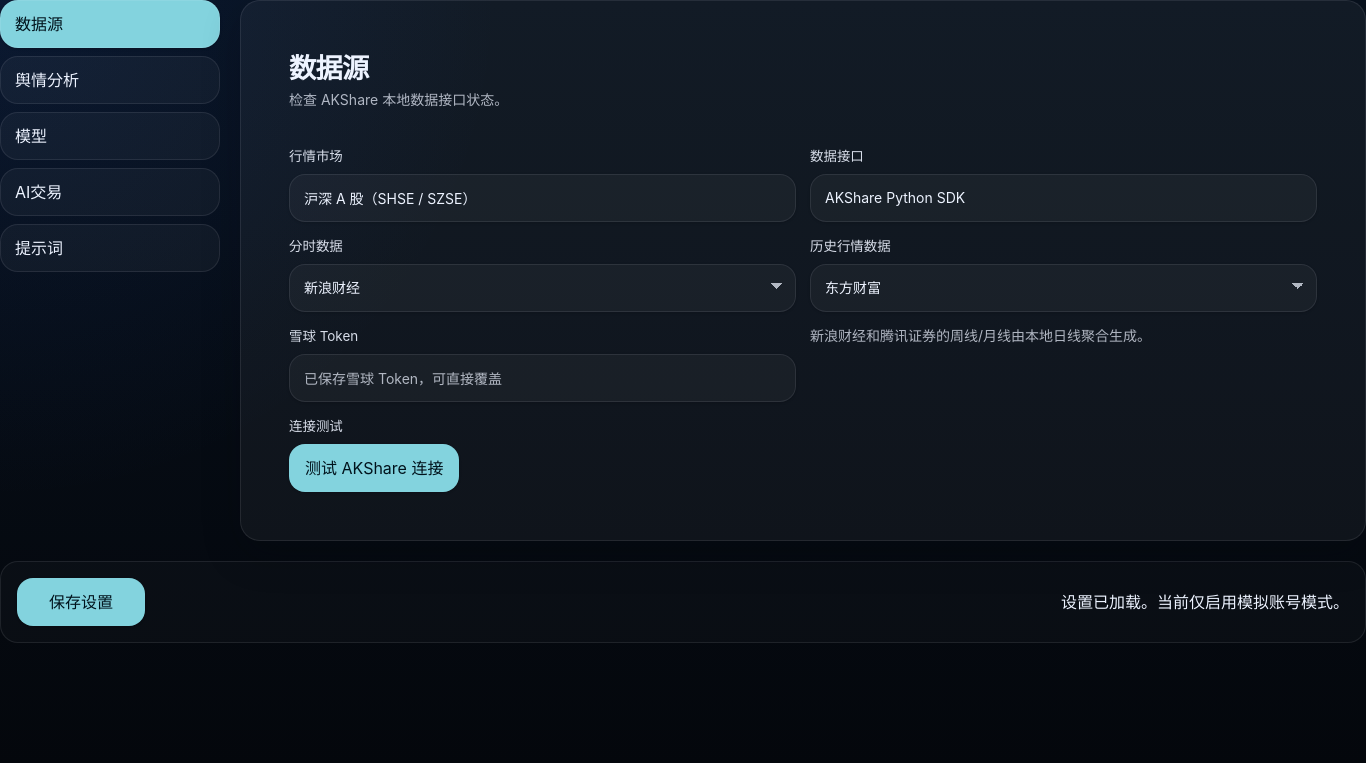
Test case: SettingsPage › keeps watchlist editing out of AI settings and exposes KittyAlpha-style model controls
Click the tab "AI交易" at (110, 192), box [0, 168, 220, 216]
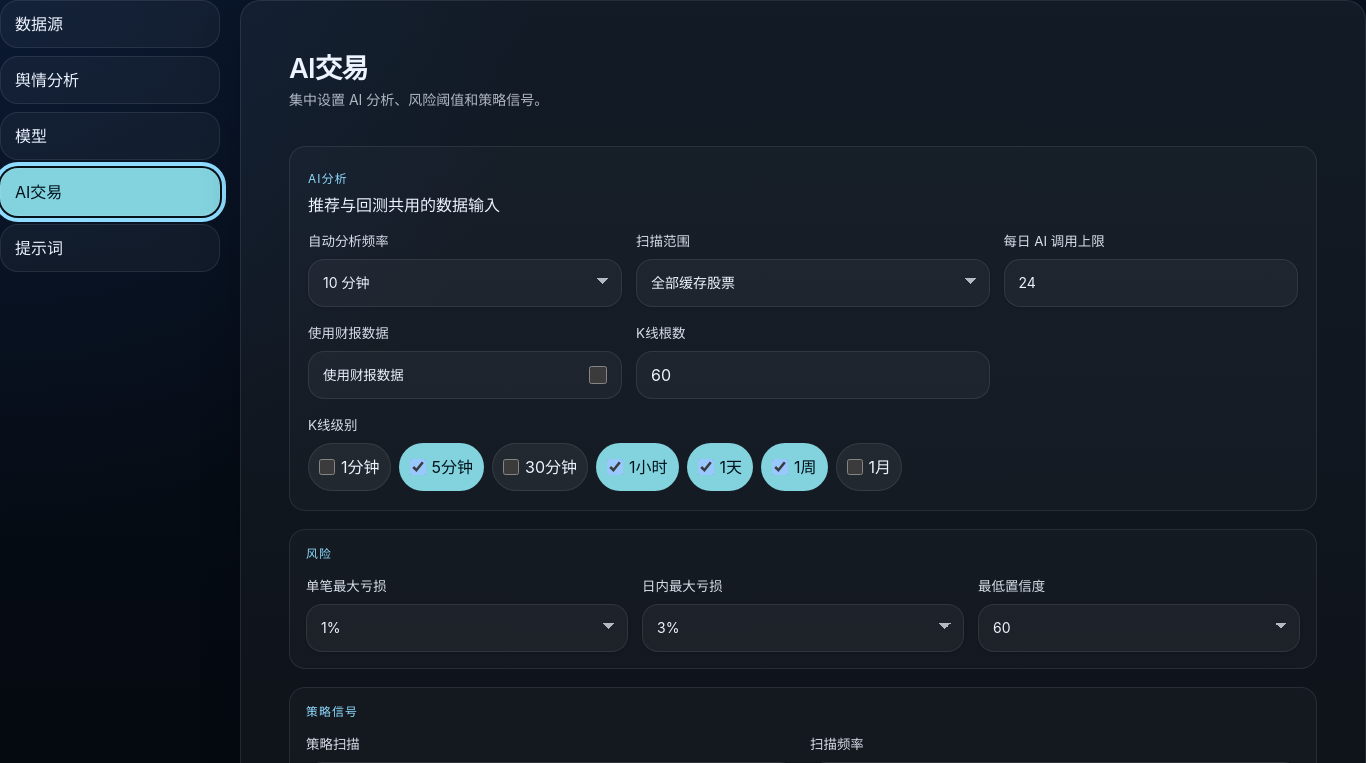
Result: the text "AI分析" is shown at [308, 172, 348, 186]
Result: the text "使用财报数据" is shown 2 times at [308, 325, 389, 341]; [323, 365, 404, 385]
Result: the element labelled "使用财报数据" is shown at [308, 351, 622, 399]
Click the tab "模型" at (110, 136), box [0, 112, 220, 160]
(page scrolled)
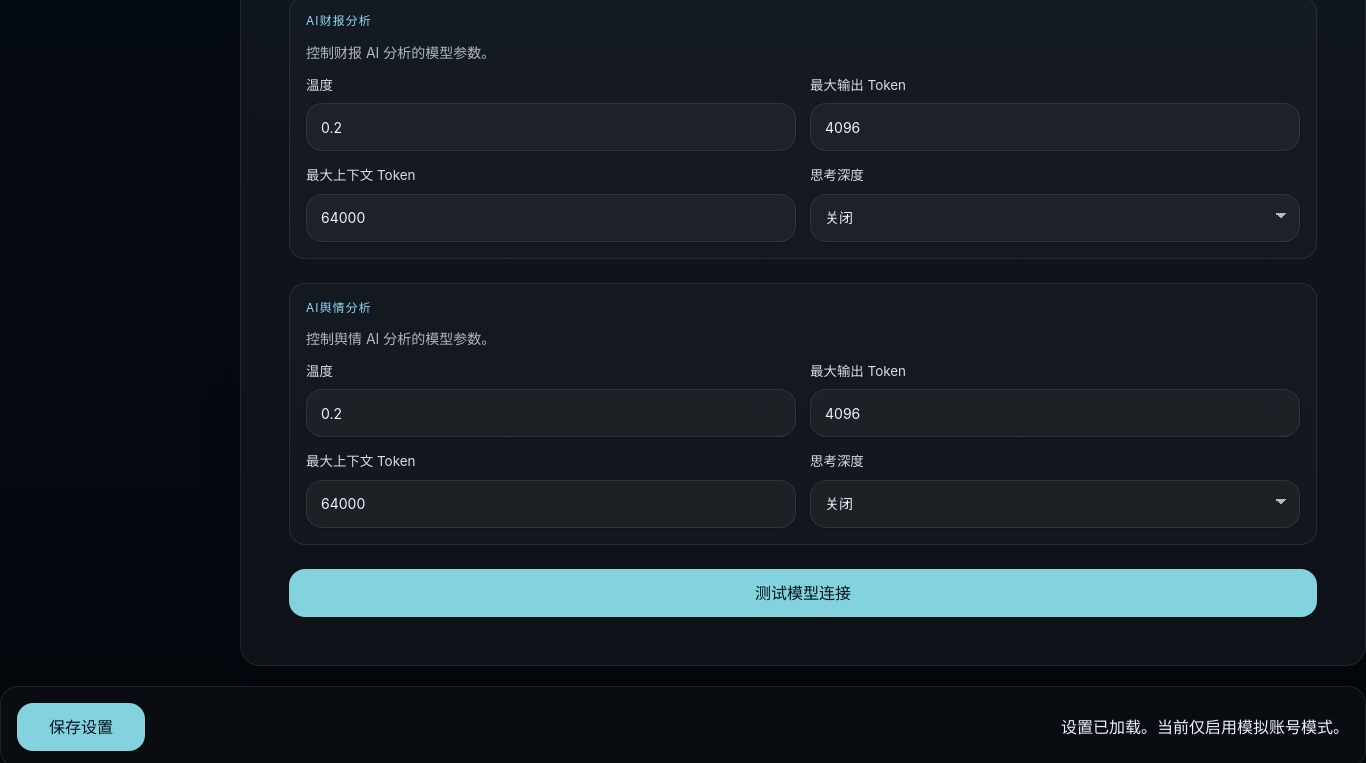
Result: the text "AI财报分析" is shown at [306, 14, 372, 28]
Result: the text "AI舆情分析" is shown at [306, 300, 372, 314]
Result: the number of fields labelled "温度" is 4
Click the button "测试模型连接" at (803, 593), box [289, 569, 1317, 617]
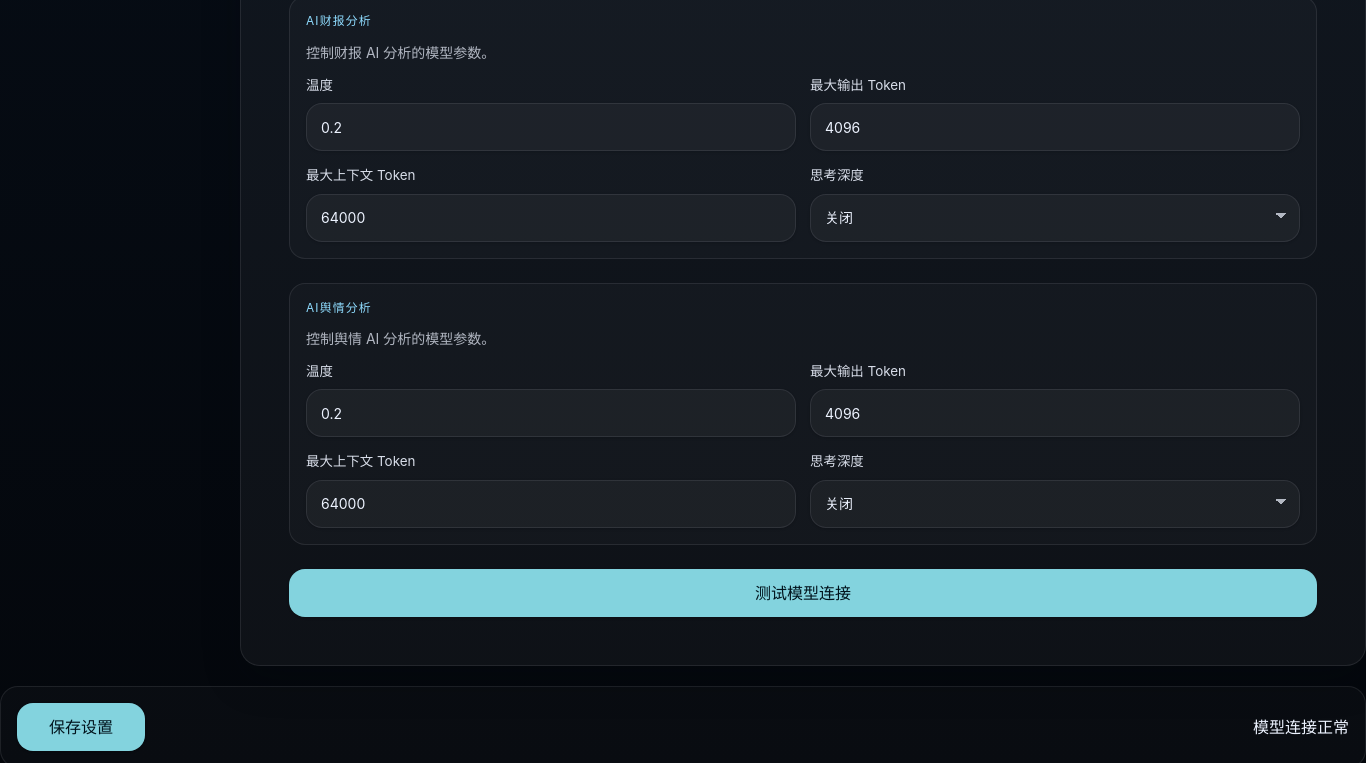
Result: the text "模型连接正常" is shown at [1253, 715, 1349, 739]
